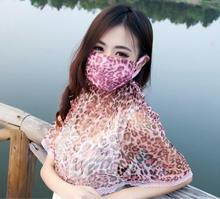face_mask: (86, 24, 138, 87)
